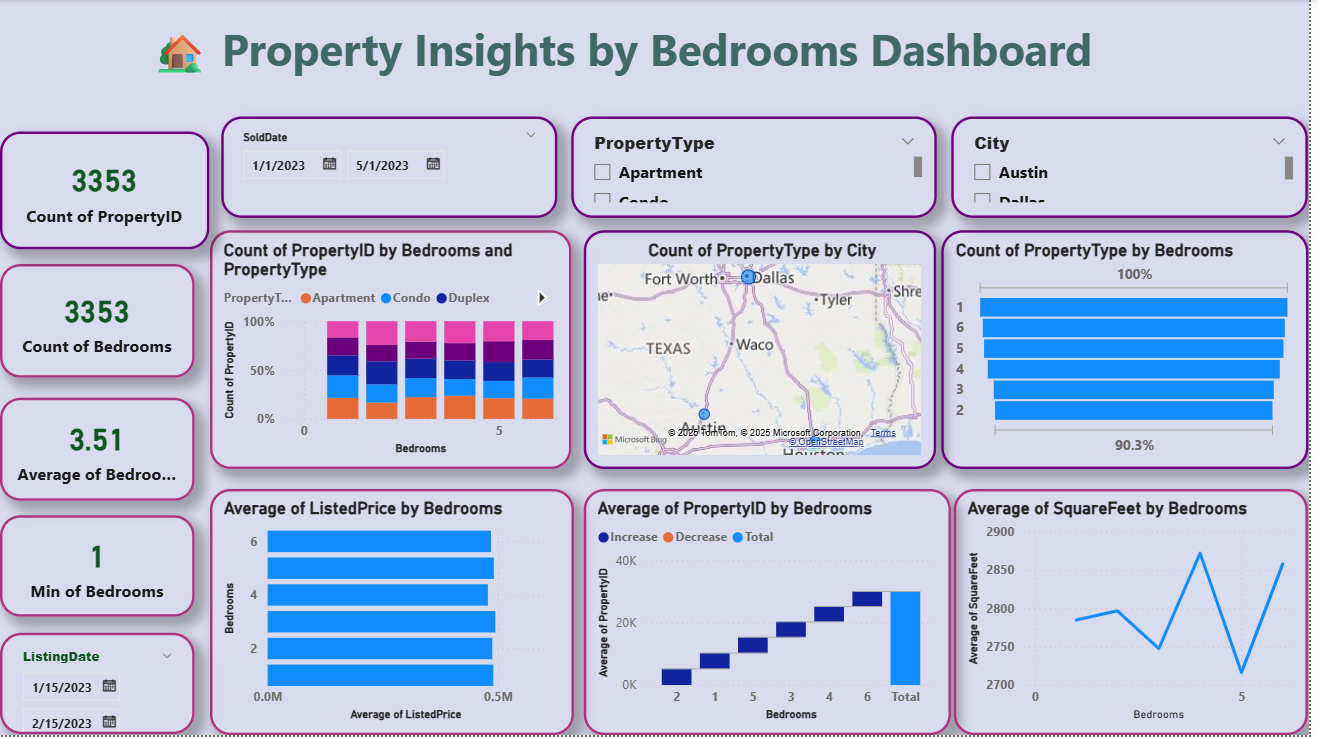

What the dashboard file says about the page in this screenshot:
{"tool":"powerbi","page":{"name":"Page 3","canvas":[1280,720],"ordinal":2},"visuals":[{"type":"card","fields":{"Values":["CountNonNull(Properties.Bedrooms)"]},"box":[0,259.7,190.4,111.1],"z":0},{"type":"card","fields":{"Values":["Avg(Properties.Bedrooms)"]},"box":[0,389.5,190.4,101],"z":1000},{"type":"card","fields":{"Values":["Min(Properties.Bedrooms)"]},"box":[0,505,190.4,99.6],"z":2000},{"type":"barChart","fields":{"Category":["Properties.Bedrooms"],"Y":["Avg(Properties.ListedPrice)"]},"box":[204.9,479,356.4,240.9],"z":4000},{"type":"waterfallChart","fields":{"Category":["Properties.Bedrooms"],"Y":["Avg(Properties.PropertyID)"]},"box":[571.3,479,359.2,240.9],"z":5000},{"type":"lineChart","fields":{"Category":["Properties.Bedrooms"],"Y":["Avg(Properties.SquareFeet)"]},"box":[933.5,479,346.3,240.9],"z":6000},{"type":"hundredPercentStackedColumnChart","fields":{"Category":["Properties.Bedrooms"],"Series":["Properties.PropertyType"],"Y":["CountNonNull(Properties.PropertyID)"]},"box":[204.9,226.5,353.5,233.7],"z":6001},{"type":"slicer","fields":{"Values":["Properties.ListingDate"]},"box":[0,620.4,190.4,99.6],"z":6002},{"type":"textbox","box":[101,14.4,992.6,86.6],"z":6003},{"type":"map","fields":{"Category":["Properties.City"],"Size":["CountNonNull(Properties.PropertyType)"]},"box":[571.3,226.5,344.8,233.7],"z":6004},{"type":"funnel","fields":{"Category":["Properties.Bedrooms"],"Y":["CountNonNull(Properties.PropertyType)"]},"box":[920.5,226.5,359.2,233.7],"z":6005},{"type":"slicer","fields":{"Values":["Properties.SoldDate"]},"box":[216.4,115.4,328.9,99.6],"z":6006},{"type":"slicer","fields":{"Values":["Properties.PropertyType"]},"box":[558.3,115.4,357.8,99.6],"z":6007},{"type":"slicer","fields":{"Values":["Properties.City"]},"box":[930.6,115.4,349.1,99.6],"z":6008},{"type":"card","fields":{"Values":["CountNonNull(Properties.PropertyID)"]},"box":[0,129.8,204.9,115.4],"z":6009}]}

Visuals, with their boxes in screenshot pixels (x1, y1, x2, y2), scaled from the page's 1280x720 canvas onto the 1317x738 screenshot:
card - CountNonNull(Properties.Bedrooms): (x1=0, y1=266, x2=196, y2=380)
card - Avg(Properties.Bedrooms): (x1=0, y1=399, x2=196, y2=503)
card - Min(Properties.Bedrooms): (x1=0, y1=518, x2=196, y2=620)
barChart - Properties.Bedrooms x Avg(Properties.ListedPrice): (x1=211, y1=491, x2=578, y2=737)
waterfallChart - Properties.Bedrooms x Avg(Properties.PropertyID): (x1=588, y1=491, x2=957, y2=737)
lineChart - Properties.Bedrooms x Avg(Properties.SquareFeet): (x1=960, y1=491, x2=1316, y2=737)
hundredPercentStackedColumnChart - Properties.Bedrooms x Properties.PropertyType: (x1=211, y1=232, x2=575, y2=472)
slicer - Properties.ListingDate: (x1=0, y1=636, x2=196, y2=737)
textbox: (x1=104, y1=15, x2=1125, y2=104)
map - Properties.City x CountNonNull(Properties.PropertyType): (x1=588, y1=232, x2=943, y2=472)
funnel - Properties.Bedrooms x CountNonNull(Properties.PropertyType): (x1=947, y1=232, x2=1316, y2=472)
slicer - Properties.SoldDate: (x1=223, y1=118, x2=561, y2=220)
slicer - Properties.PropertyType: (x1=574, y1=118, x2=943, y2=220)
slicer - Properties.City: (x1=958, y1=118, x2=1316, y2=220)
card - CountNonNull(Properties.PropertyID): (x1=0, y1=133, x2=211, y2=251)
